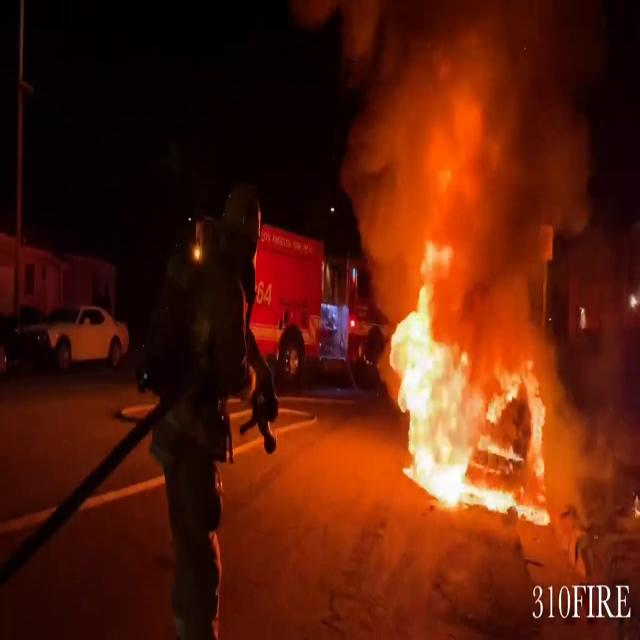Fire: (378, 162, 562, 524)
Smoke: (327, 0, 609, 267)
